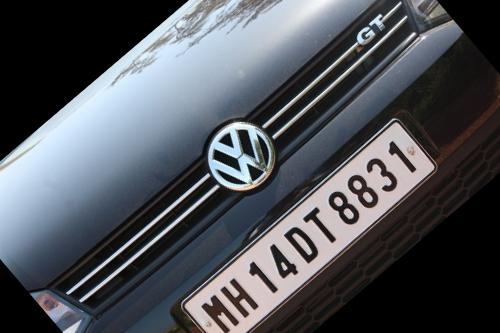plate: (160, 92, 465, 333)
